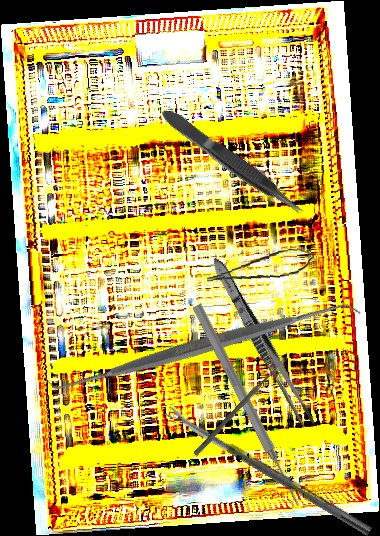Dressing Forceps: (205, 253, 320, 432)
Micro Scissor: (204, 245, 316, 286)
Pusher: (189, 302, 305, 509)
Spatula Surgical: (44, 185, 363, 508)
Surgical Spoon: (165, 405, 373, 536), (193, 354, 289, 458)
Tissue Forceps: (158, 101, 309, 223)
